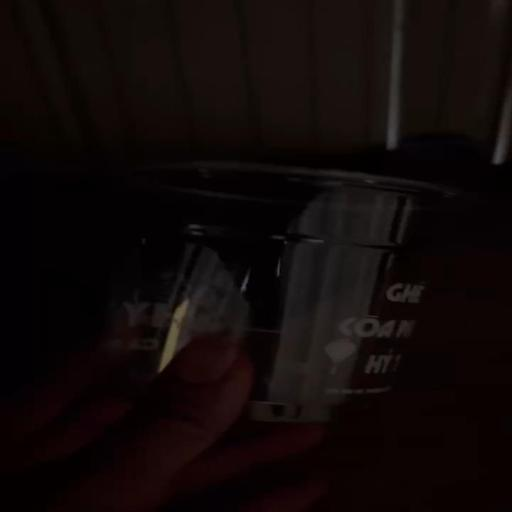ly_giay: (110, 162, 458, 422)
